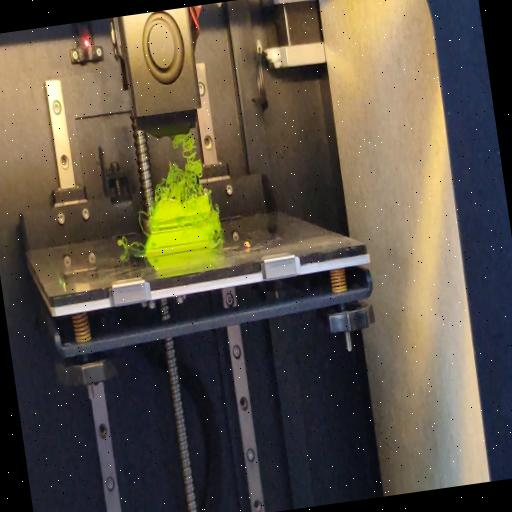spaghetti: (148, 134, 214, 211), (138, 206, 152, 240), (119, 236, 144, 253), (214, 234, 226, 248)
